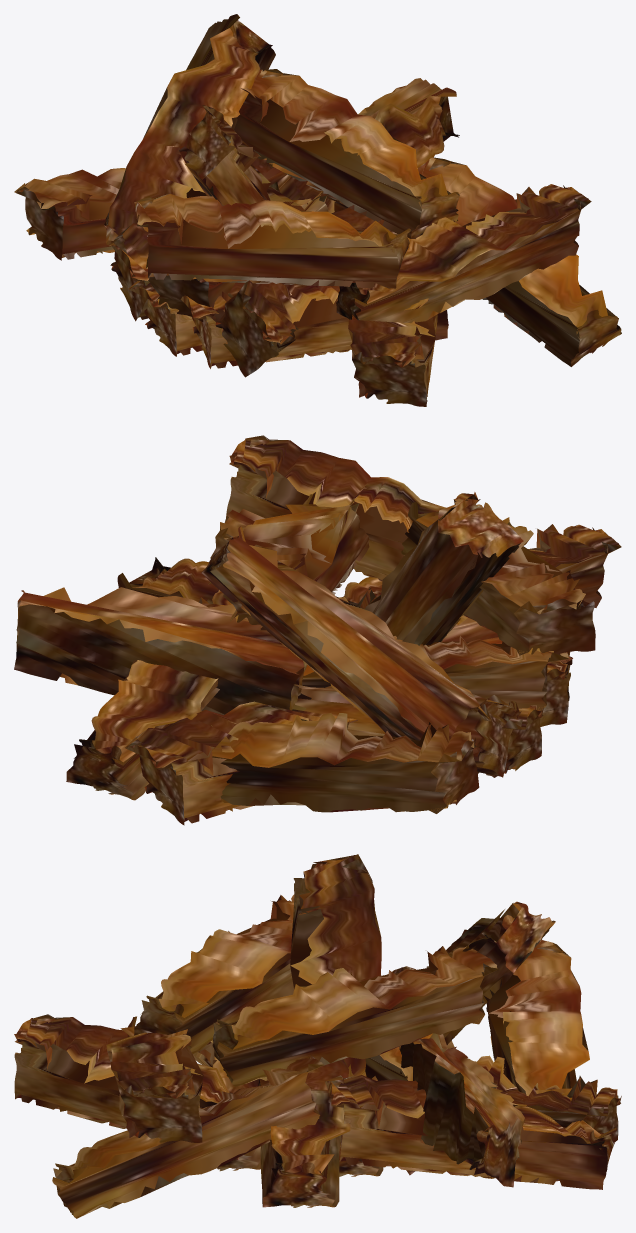
File: shoarma_hoopje.glb
3 views of the same model, one above another, from view 1: azimuth 30°, elevation 25°; view 2: azimuth 150°, elevation 25°; view 3: azimuth 270°, elevation 25° (orthographic). The views are drawn at different scales.
Visible parts, largest first — view 1: Cube.008, Cube.014, Cube.016, Cube.009, Cube.015, Cube.011, Cube.010, Cube.004, Cube.013, Cube.002, Cube.003, Cube.001 (+3 smaller); view 2: Cube.013, Cube.009, Cube.011, Cube.016, Cube.002, Cube.008, Cube.012, Cube.006, Cube.014, Cube.005, Cube.001, Cube.010 (+5 smaller); view 3: Cube.014, Cube.015, Cube.012, Cube.008, Cube.011, Cube.013, Cube.010, Cube.002, Cube.016, Cube.007, Cube.009, Cube.006 (+3 smaller).
Part boxes in pixels (x1,y1,x2,y2): Cube.008: (134, 194, 410, 288); Cube.014: (234, 69, 459, 238); Cube.016: (336, 184, 591, 323); Cube.009: (104, 14, 275, 245); Cube.015: (418, 157, 621, 366); Cube.011: (14, 168, 125, 260); Cube.010: (348, 298, 437, 406); Cube.004: (180, 282, 448, 368); Cube.013: (263, 78, 459, 213); Cube.002: (176, 105, 304, 210); Cube.003: (211, 280, 298, 377); Cube.001: (110, 223, 149, 321); Cube.013: (14, 587, 307, 715); Cube.009: (201, 526, 491, 740); Cube.011: (211, 713, 479, 813); Cube.016: (226, 435, 445, 581); Cube.002: (365, 492, 523, 645); Cube.008: (401, 501, 595, 655); Cube.012: (66, 590, 232, 800); Cube.006: (125, 701, 357, 825); Cube.014: (223, 494, 369, 630); Cube.005: (292, 635, 569, 711); Cube.001: (294, 684, 521, 777); Cube.010: (342, 524, 621, 616); Cube.014: (212, 946, 498, 1086); Cube.015: (52, 1055, 324, 1218); Cube.012: (324, 1075, 617, 1189); Cube.008: (134, 894, 294, 1054); Cube.011: (486, 940, 589, 1108); Cube.013: (399, 1038, 524, 1187); Cube.010: (14, 1014, 238, 1159); Cube.002: (290, 854, 381, 1076); Cube.016: (106, 1016, 203, 1142); Cube.007: (258, 1059, 350, 1207); Cube.009: (426, 901, 555, 1044); Cube.006: (474, 1055, 621, 1141).
Size of the model in its own units: 0.3287 by 0.1833 by 0.3961.
17 materials, 17 textured.
